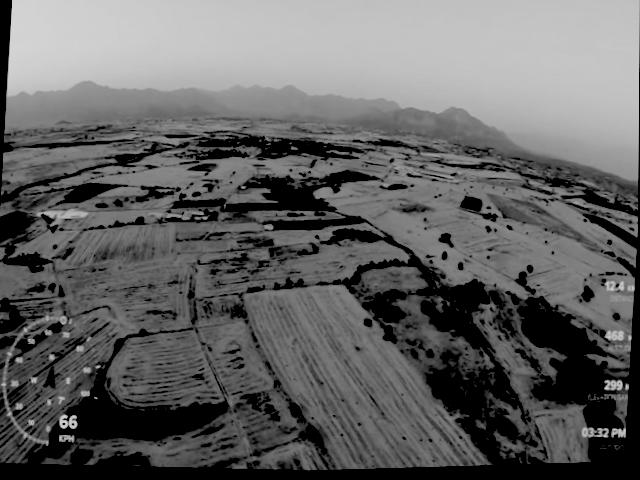hedef: (31, 201, 93, 239)
